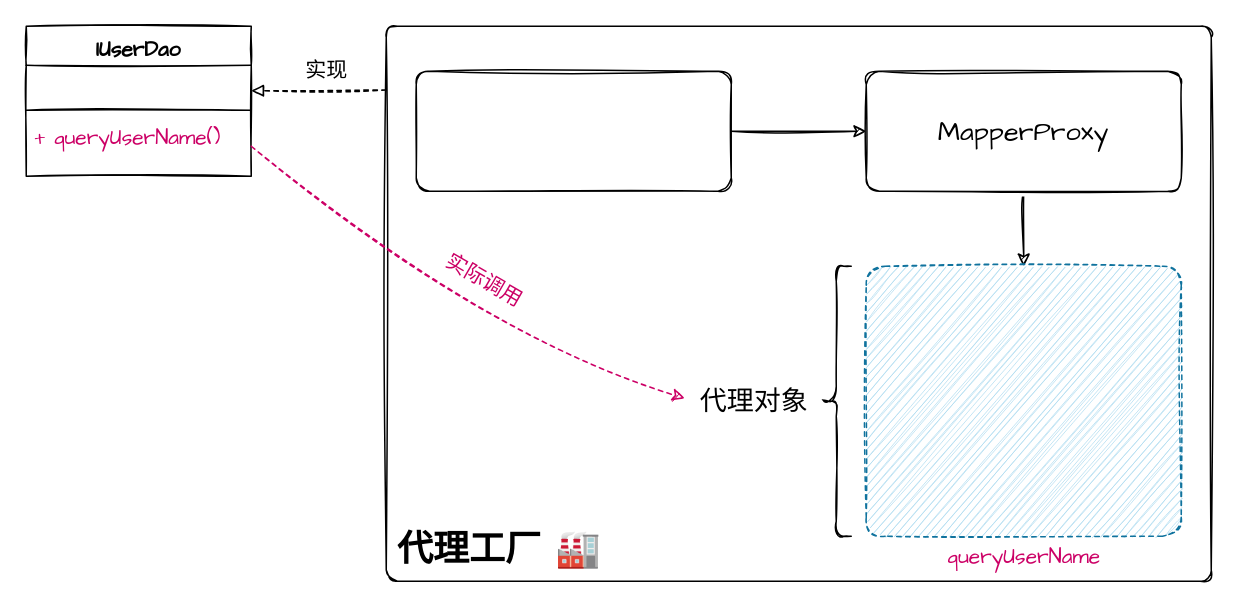
Some shapes in this 1238 by 608 pixel diagram are drawn without their labels. The centre of each missing label's shape, as x and y in pixels:
"MapperProxyFactory" goes at point 573,130.
"包装 Mapper 操作" goes at point 1023,400.
